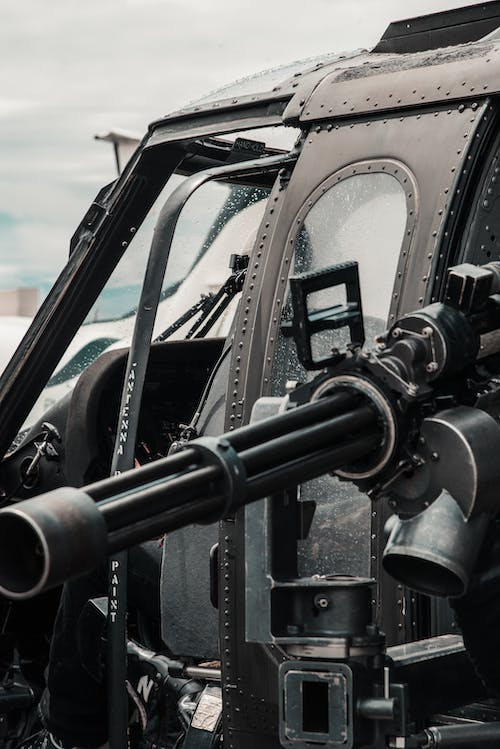gun: (0, 249, 500, 604)
